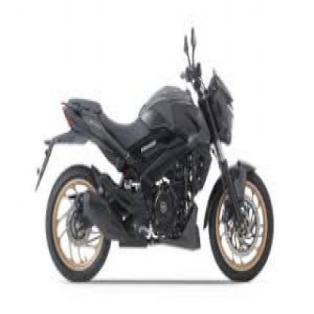Motocicleta: (27, 22, 276, 286)
